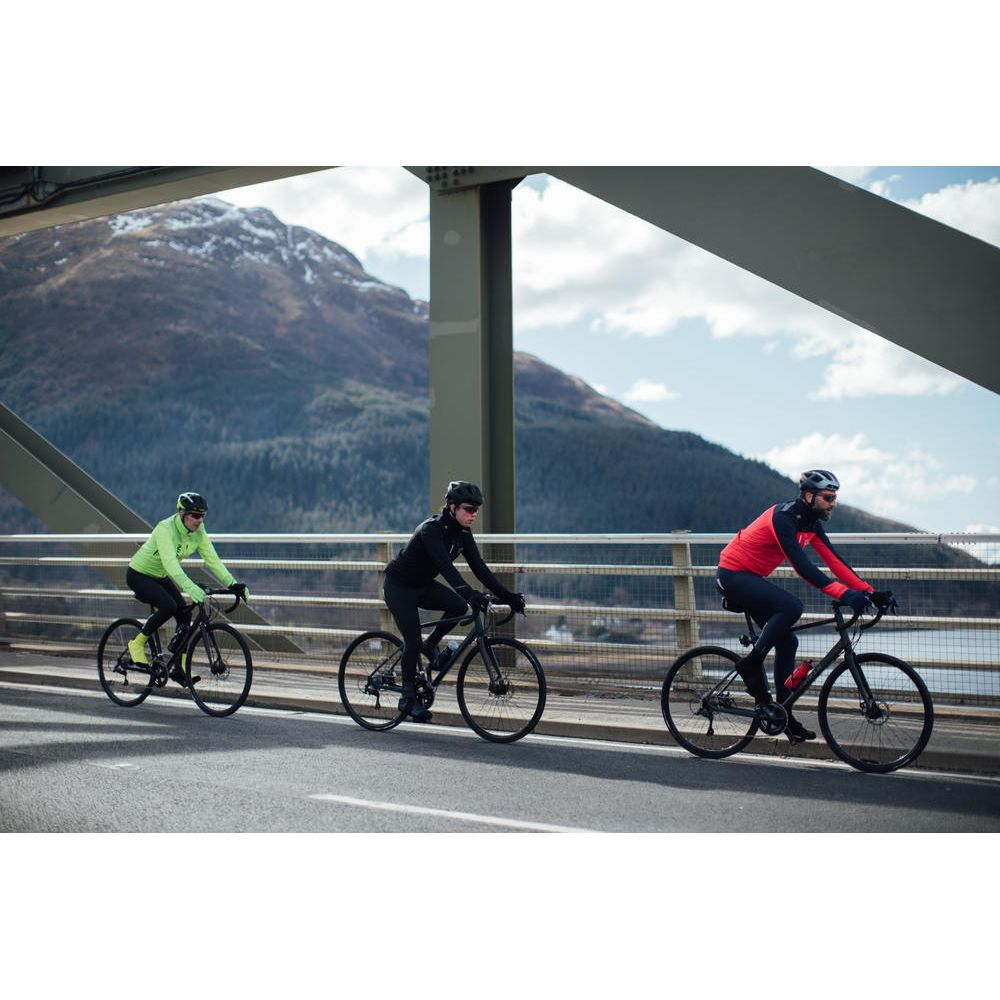RoadBike: (653, 569, 946, 771), (330, 582, 549, 734), (93, 578, 276, 720)
